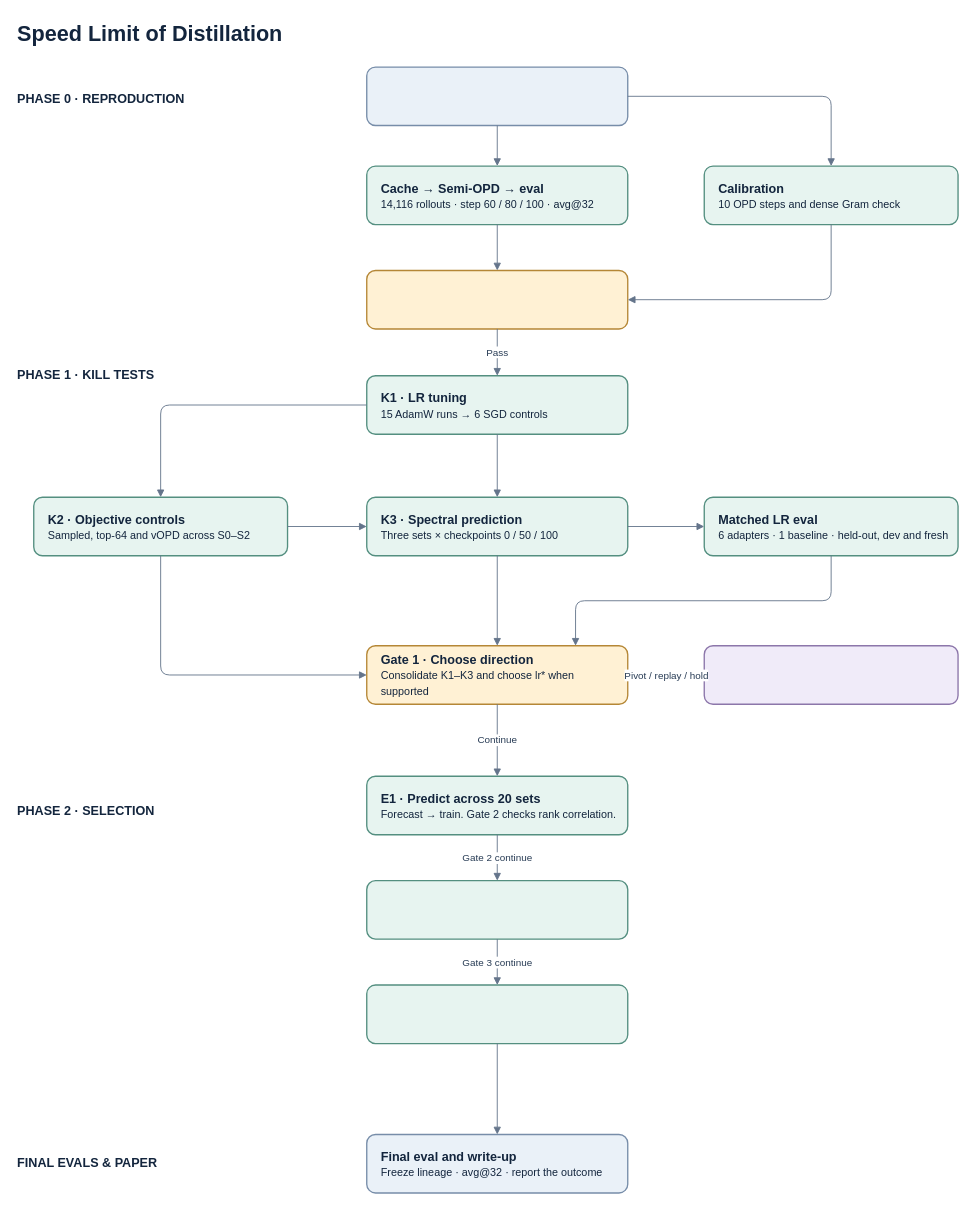
This 974x1209 diagram has some shape labels left out. Here are the shapes that lost their labels. From the top down, the centre of each, then its label:
At [497,96]: "Pinned inputs Model pair, tokenizer, DAPO and benchmarks".
At [497,299]: "Phase 0 gate Within about 3 points of 39.8% and record B200 cost".
At [830,675]: "Pivot, replay or hold Record blockers or revise the research plan".
At [497,909]: "E2 · Compare selectors Gate 3 checks speedup and held-out KL.".
At [497,1014]: "E3 · Time to target 10 primary runs · optional second pair".
